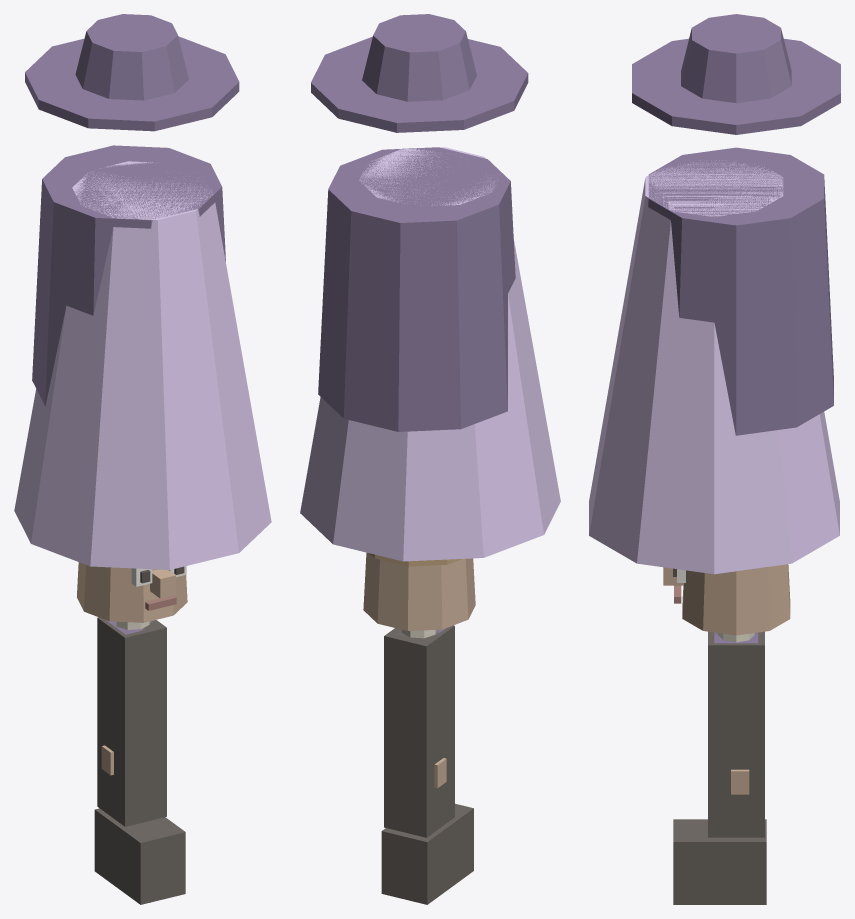
Rendered from npc_sable.glb.
3 views of the same model, side by side, from view 1: azimuth 30°, elevation 25°; view 2: azimuth 150°, elevation 25°; view 3: azimuth 270°, elevation 25° (orthographic).
Parts seen in each view (by area): view 1: Cloak, Torso, LimbLegL, HatBrim, HatCrown, BootL, Head, Nose; view 2: Torso, Cloak, LimbLegL, HatBrim, HatCrown, Head, BootL; view 3: Cloak, Torso, LimbLegL, HatBrim, HatCrown, BootL, Head.
Boxes of the visible parts, <box> form: Cloak: <box>14,161,271,569</box>; Torso: <box>32,145,225,406</box>; LimbLegL: <box>97,617,166,826</box>; HatBrim: <box>25,36,239,131</box>; HatCrown: <box>75,14,188,100</box>; BootL: <box>94,808,185,904</box>; Head: <box>77,562,187,622</box>; Nose: <box>150,569,175,598</box>; Torso: <box>318,147,515,431</box>; Cloak: <box>300,147,560,561</box>; LimbLegL: <box>384,625,454,837</box>; HatBrim: <box>311,36,528,132</box>; HatCrown: <box>362,14,476,101</box>; Head: <box>363,552,475,630</box>; BootL: <box>381,803,473,904</box>; Cloak: <box>589,160,839,574</box>; Torso: <box>648,147,833,435</box>; LimbLegL: <box>708,631,764,837</box>; HatBrim: <box>632,38,840,134</box>; HatCrown: <box>681,14,791,103</box>; BootL: <box>673,819,766,904</box>; Head: <box>682,564,790,635</box>.
Bounding box in the file's own units: 0.72 × 2.59 × 0.6877.
